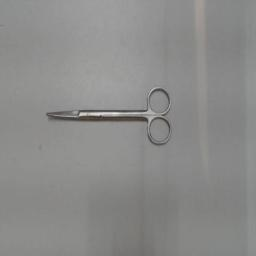Curved Mayo Scissors: (46, 84, 174, 146)
